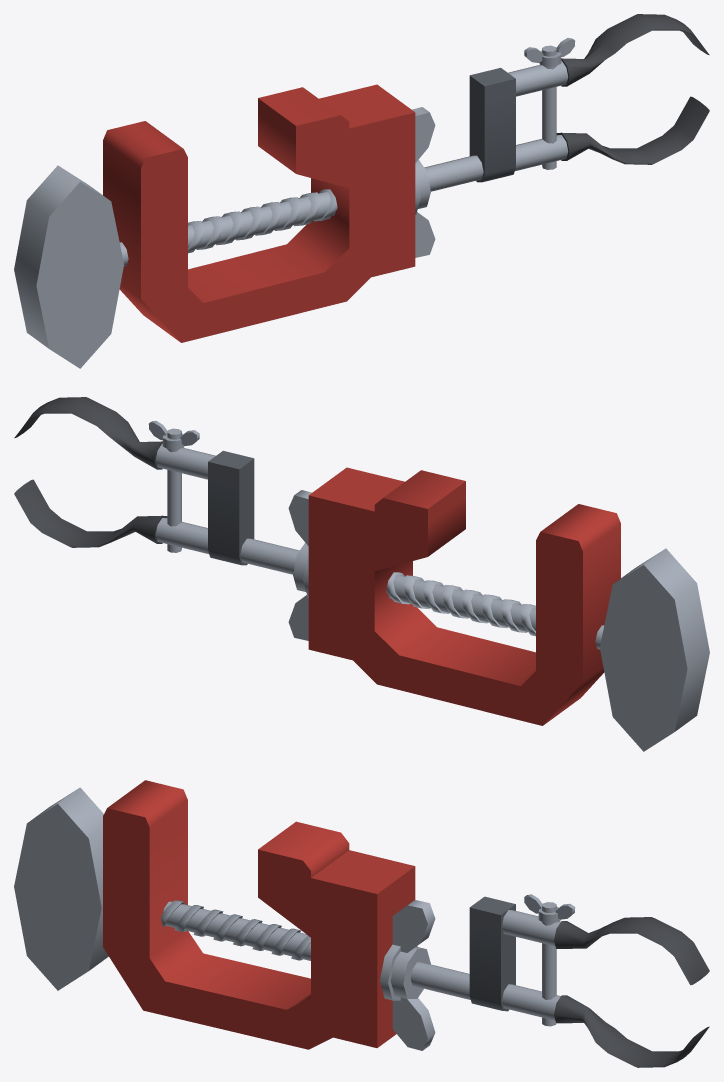
The model's file is clamp_tube_clamp.glb.
3 views of the same model, one above another, from view 1: azimuth 30°, elevation 25°; view 2: azimuth 150°, elevation 25°; view 3: azimuth 330°, elevation 25° (orthographic).
Visible parts, largest first — view 1: clamp_tube_clamp, clamp_tube_clamp_knot, clamp_tube_clamp_holder, clamp_tube_clamp_screw, clamp_tube_clamp_holder_screw; view 2: clamp_tube_clamp, clamp_tube_clamp_knot, clamp_tube_clamp_holder, clamp_tube_clamp_screw, clamp_tube_clamp_holder_screw; view 3: clamp_tube_clamp, clamp_tube_clamp_knot, clamp_tube_clamp_holder, clamp_tube_clamp_screw, clamp_tube_clamp_holder_screw.
Part boxes in pixels (x1=…): clamp_tube_clamp: x1=103, y1=84, x2=709, y2=342; clamp_tube_clamp_knot: x1=14, y1=165, x2=123, y2=368; clamp_tube_clamp_holder: x1=469, y1=14, x2=709, y2=182; clamp_tube_clamp_screw: x1=412, y1=107, x2=435, y2=257; clamp_tube_clamp_holder_screw: x1=524, y1=38, x2=575, y2=66; clamp_tube_clamp: x1=14, y1=467, x2=620, y2=725; clamp_tube_clamp_knot: x1=600, y1=548, x2=709, y2=751; clamp_tube_clamp_holder: x1=14, y1=397, x2=254, y2=565; clamp_tube_clamp_screw: x1=288, y1=490, x2=311, y2=640; clamp_tube_clamp_holder_screw: x1=148, y1=421, x2=199, y2=449; clamp_tube_clamp: x1=103, y1=780, x2=709, y2=1067; clamp_tube_clamp_knot: x1=14, y1=787, x2=108, y2=990; clamp_tube_clamp_holder: x1=469, y1=896, x2=709, y2=1026; clamp_tube_clamp_screw: x1=390, y1=900, x2=435, y2=1050; clamp_tube_clamp_holder_screw: x1=524, y1=894, x2=575, y2=923.
Bounding box in the file's own units: 30.4 × 8.72 × 2.98.
1 material, 1 textured.
